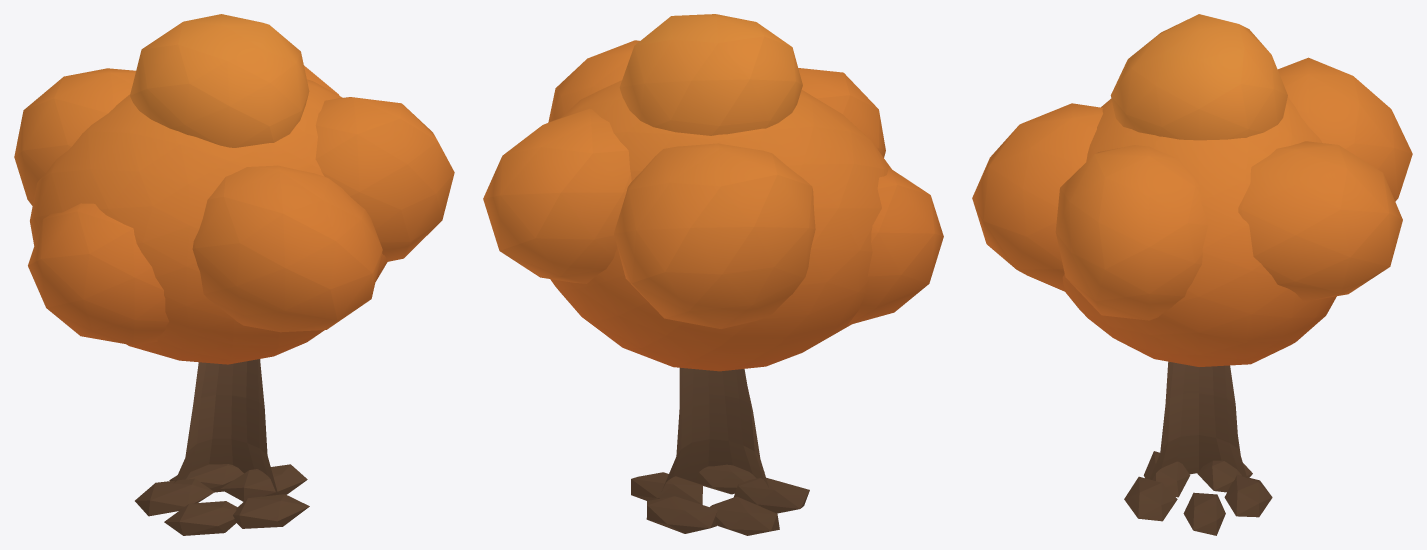
File: mother_tree.glb
3 renders of one model, left to right at view 1: azimuth 30°, elevation 25°; view 2: azimuth 150°, elevation 25°; view 3: azimuth 270°, elevation 25°, orthographic. The views are drawn at different scales.
Visible parts, largest first — view 1: mother_tree; view 2: mother_tree; view 3: mother_tree.
Boxes of the visible parts, box(x1,y1,x2,y2) form: mother_tree: box(14, 14, 454, 535); mother_tree: box(483, 14, 943, 535); mother_tree: box(972, 14, 1412, 535).
Bounding box in the file's own units: 16.17 × 19.57 × 16.4.
